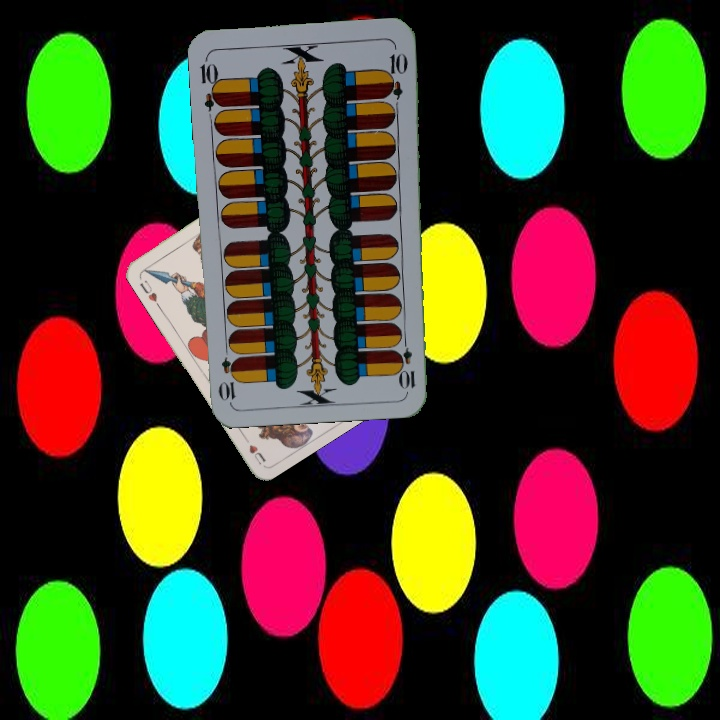E10: (196, 53, 225, 112), (397, 332, 418, 391)
HU: (136, 276, 160, 304)
